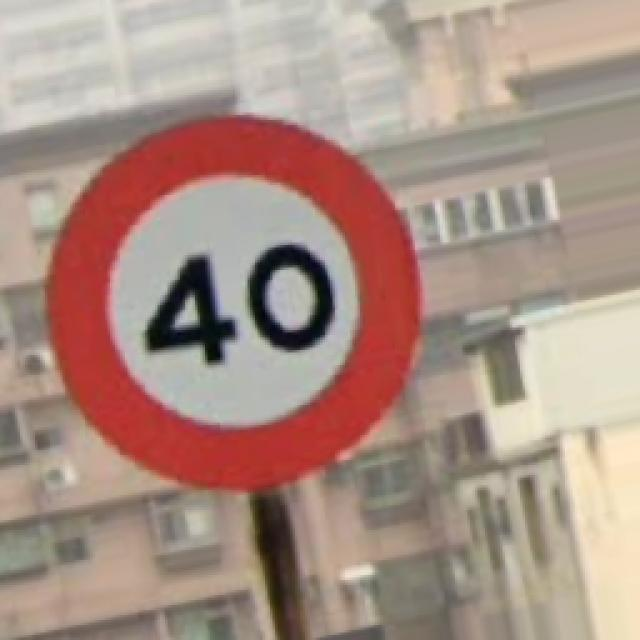Speed Limit -40-: (48, 115, 420, 488)
